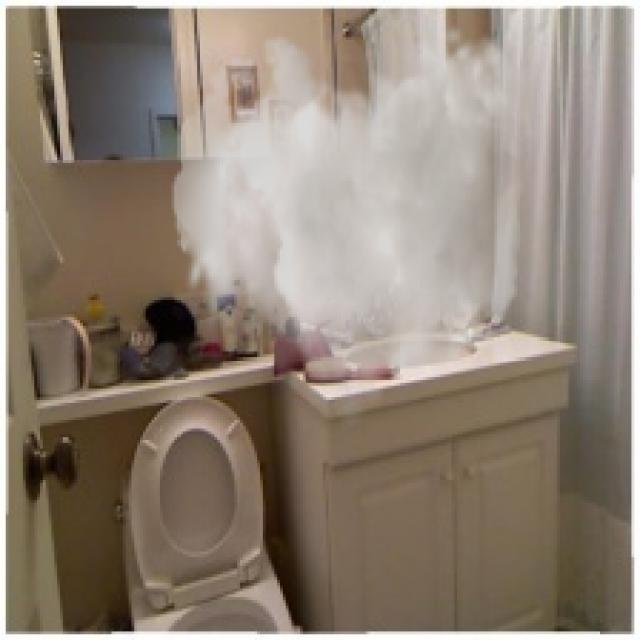smoke: (172, 23, 537, 434)
